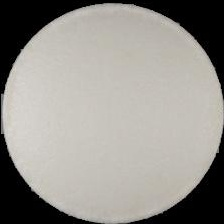55154-5353: (0, 0, 224, 224)
